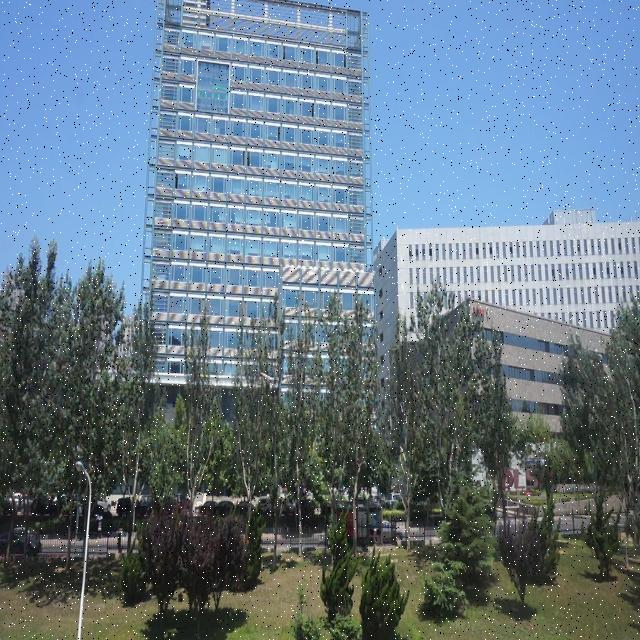UAV: (261, 372, 279, 390)
